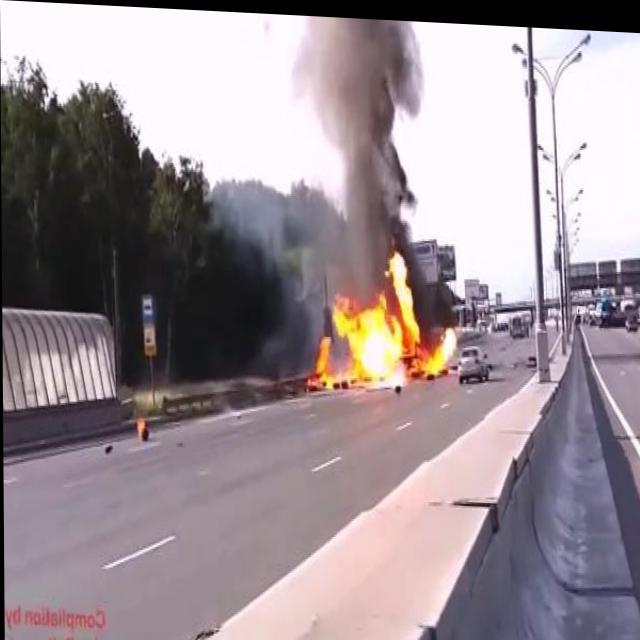fire: (306, 239, 461, 398), (133, 415, 146, 438)
